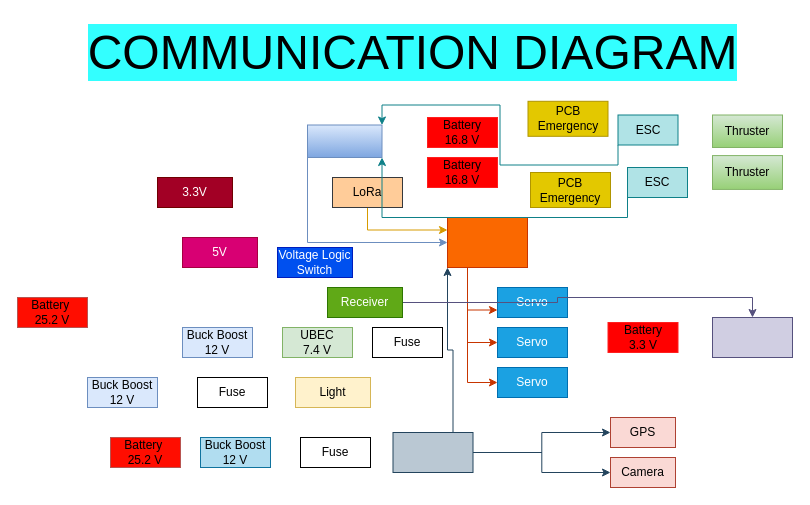
This 810x505 diagram has some shape labels left out. The shapes that lost their labels are listed below. From the top down, each one's centre as x and y in pixels, then its label:
At pixel 344 141: "CANBUS".
At pixel 487 242: "STM32".
At pixel 752 337: "Transmitter".
At pixel 432 452: "Mini PC".
